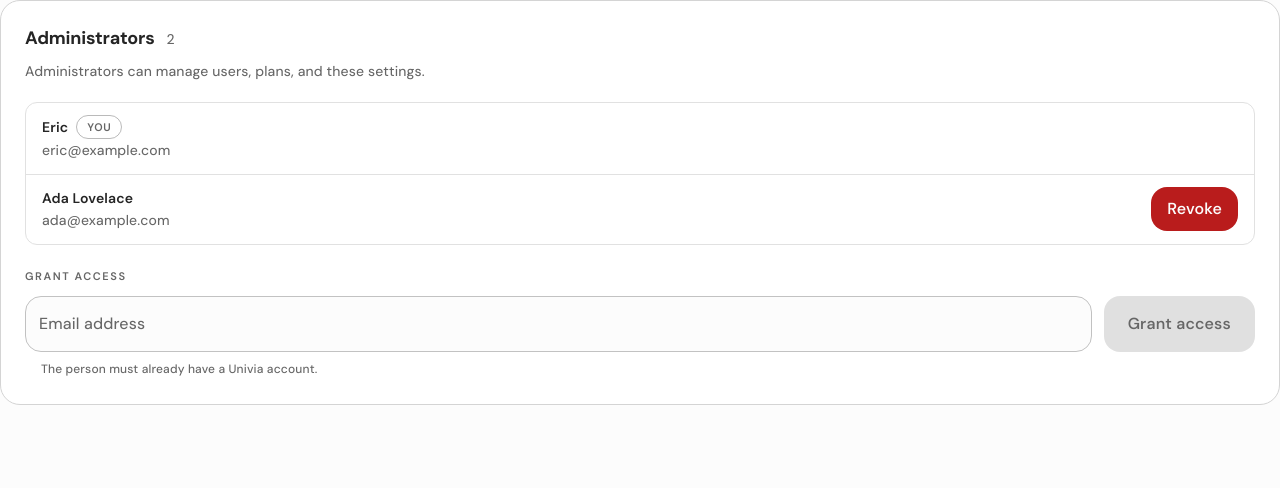
Test: AdminAccessCard › grants access and announces the result
Type "new@example.com" into the field labelled "Email address".
click(558, 324); type("new@example.com")  # box left=25, top=296, right=1092, bottom=352
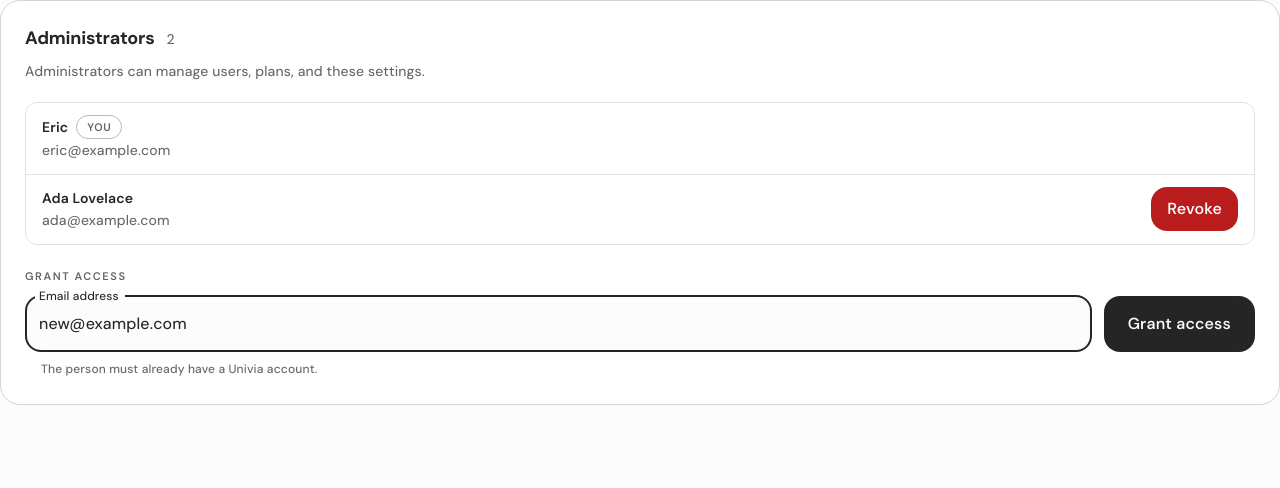
Click the button "Grant access".
click(1179, 324)  # box left=1104, top=296, right=1255, bottom=352
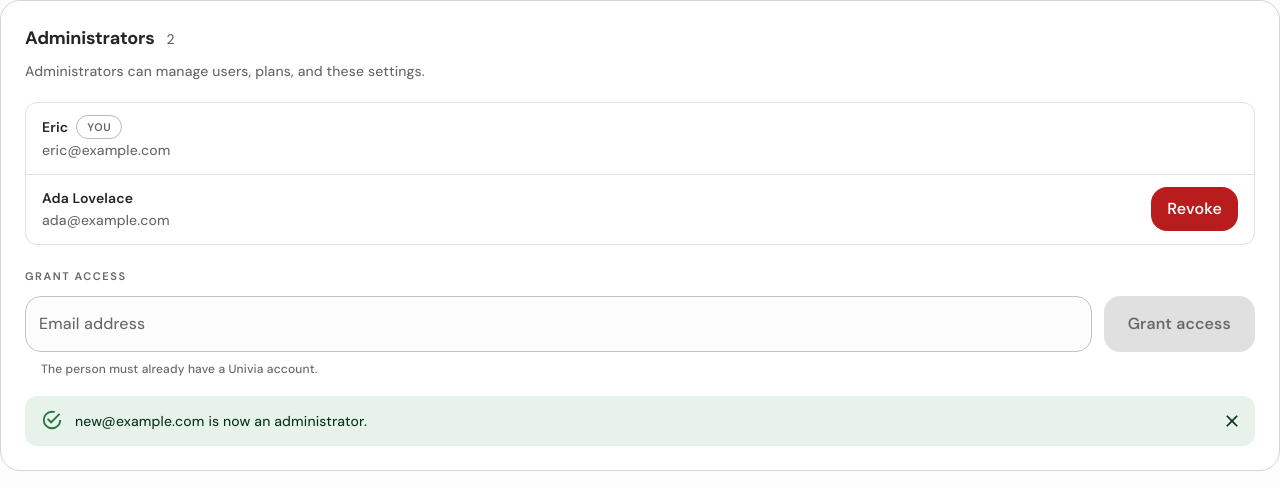
Now the text "new@example.com is now an administrator." is shown, box left=75, top=412, right=367, bottom=430
Now the field labelled "Email address" is empty, box left=25, top=296, right=1092, bottom=352
